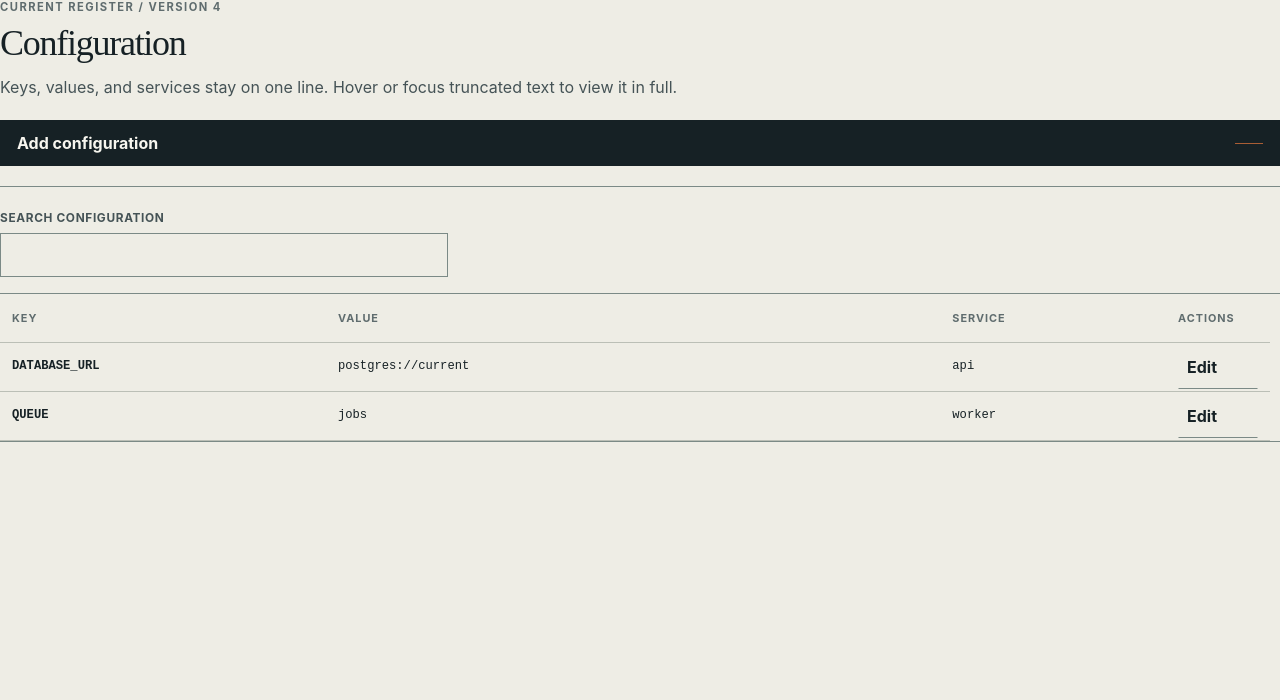
Test: ConfigTable › confirms and publishes deletion from the edit dialog
The image size is (1280, 700).
Click the button with aria-label "Edit DATABASE_URL". click: coordinates (1218, 367)
box: left=1178, top=345, right=1258, bottom=389
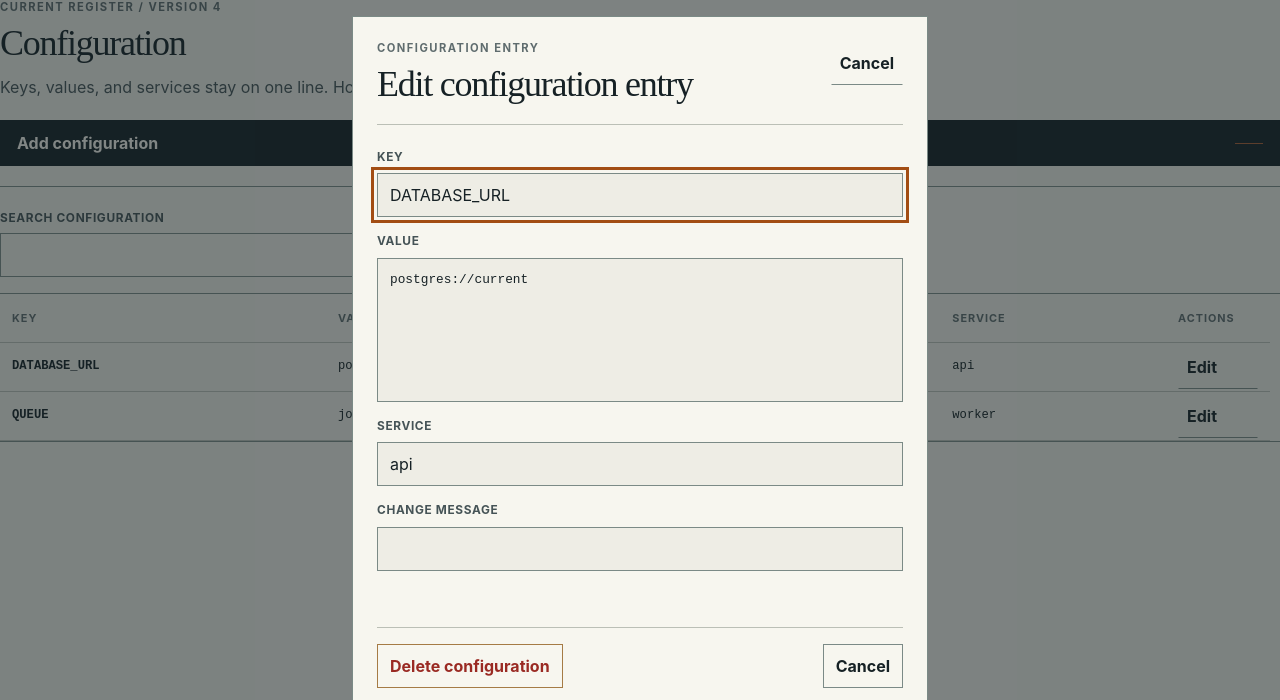
Type "remove database" into the field labelled "Change message". click: coordinates (640, 549)
box: left=377, top=527, right=903, bottom=571
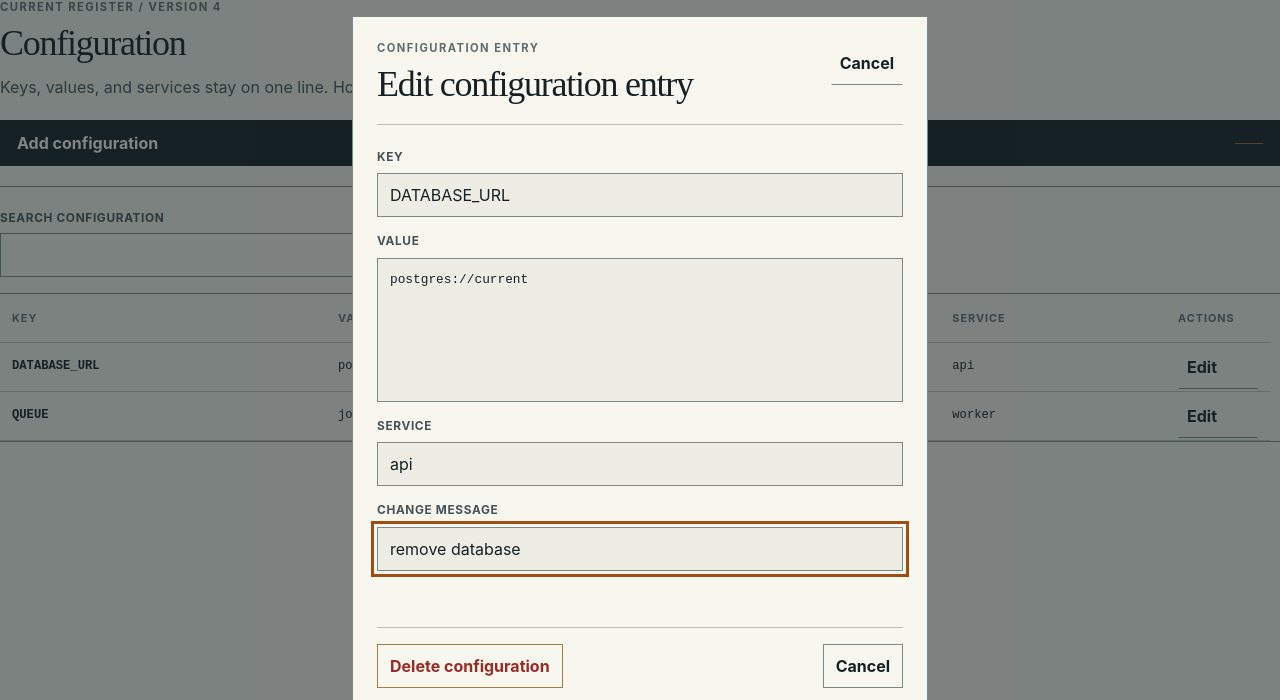
Click the button "Delete configuration". click: coordinates (470, 666)
box: left=377, top=644, right=563, bottom=688
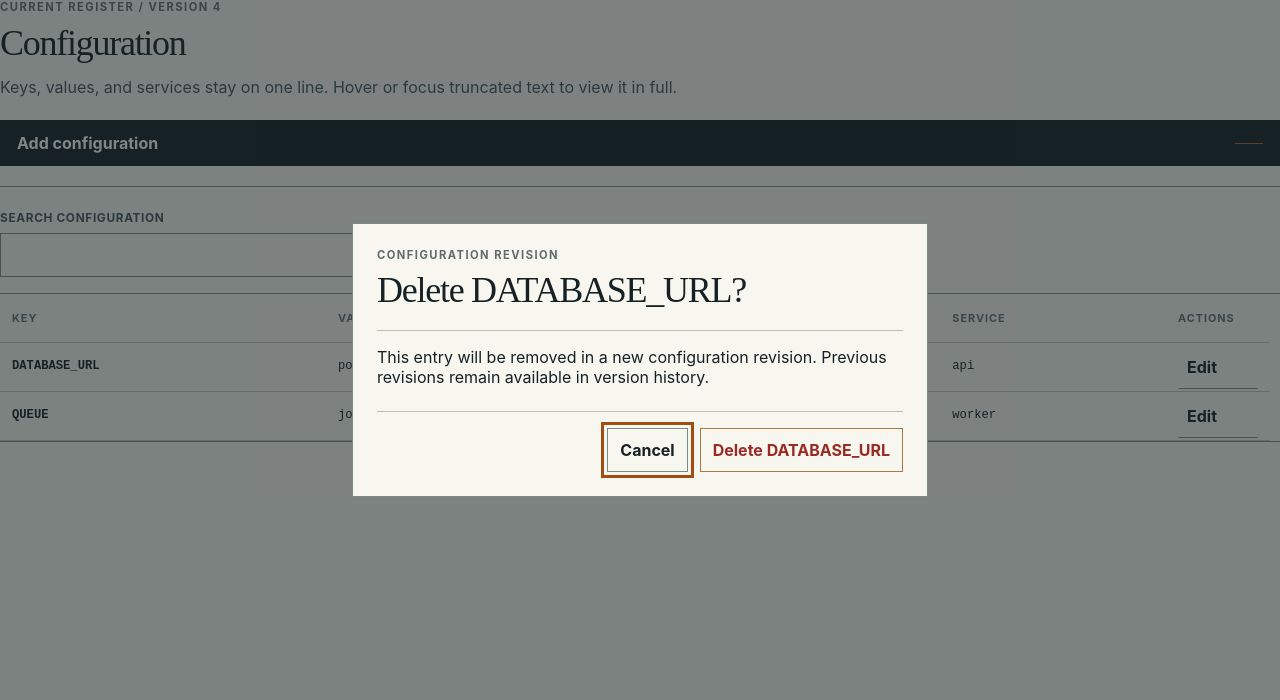
Check: the dialog "Delete DATABASE_URL?" is shown, box left=352, top=223, right=928, bottom=497
Click the button "Delete DATABASE_URL". click: coordinates (801, 450)
box: left=700, top=428, right=903, bottom=472
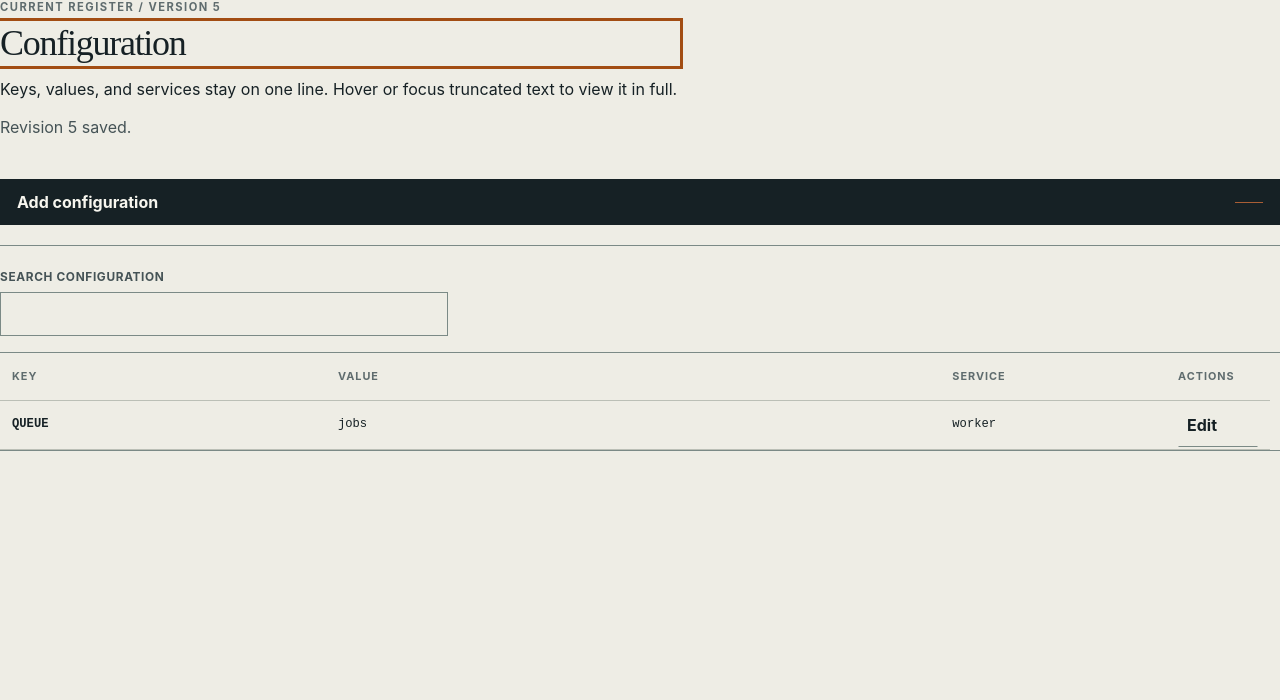
Check: the text "QUEUE" is shown, box left=12, top=417, right=48, bottom=431
Check: the text "DATABASE_URL" is gone
